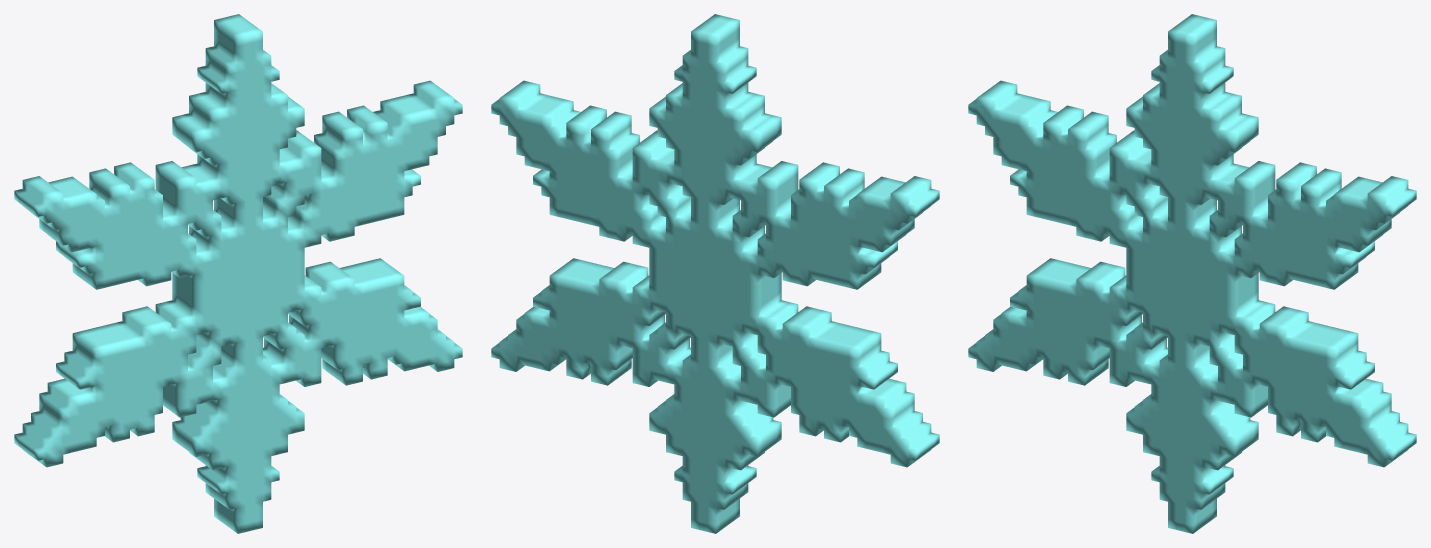
The model's file is snowFlake.glb.
The picture shows the model from 3 angles, left to right: view 1: azimuth 30°, elevation 25°; view 2: azimuth 150°, elevation 25°; view 3: azimuth 330°, elevation 25°; orthographic projection.
Parts seen in each view (by area): view 1: Curve; view 2: Curve; view 3: Curve.
Part boxes in pixels (x1,y1,x2,y2): Curve: [14, 14, 462, 533]; Curve: [491, 14, 939, 533]; Curve: [968, 14, 1416, 533].
Bounding box in the file's own units: 1.81 × 2.02 × 0.1772.
